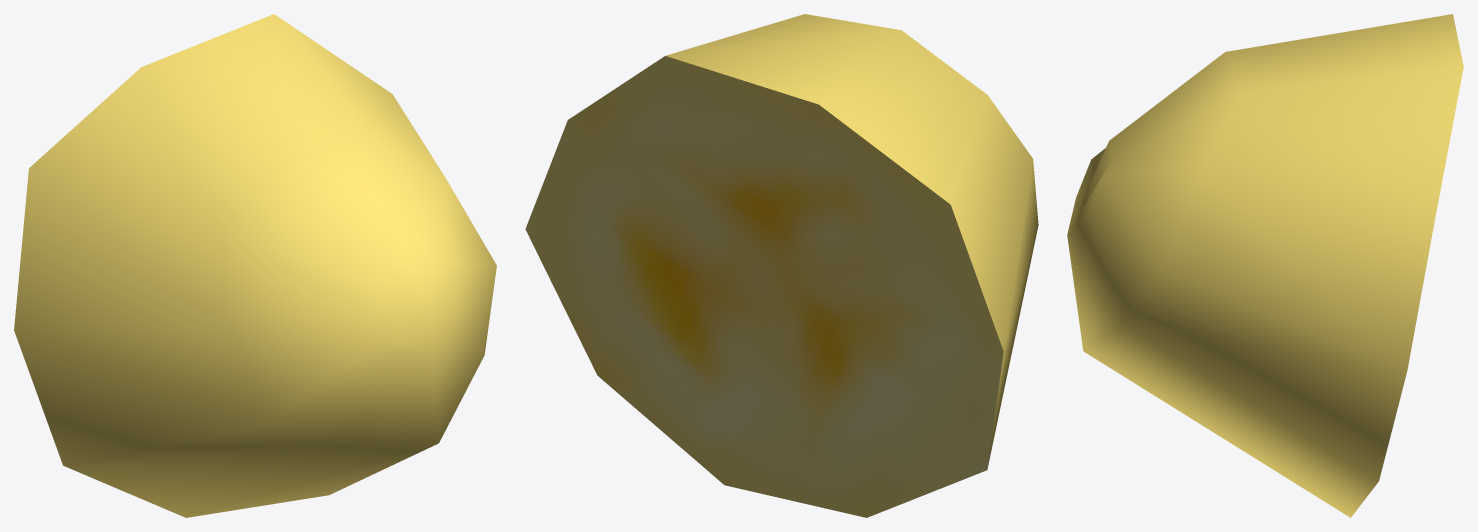
Rendered from Banana_Peeled_Slice_1.fbx.
3 renders of one model, left to right at view 1: azimuth 30°, elevation 25°; view 2: azimuth 150°, elevation 25°; view 3: azimuth 270°, elevation 25°, orthographic. The views are drawn at different scales.
Parts seen in each view (by area): view 1: SM_Prop_Banana_01.007; view 2: SM_Prop_Banana_01.007; view 3: SM_Prop_Banana_01.007.
Part boxes in pixels (<box>): SM_Prop_Banana_01.007: <box>14,14,496,517</box>; SM_Prop_Banana_01.007: <box>525,14,1038,517</box>; SM_Prop_Banana_01.007: <box>1067,14,1463,517</box>.
Bounding box in the file's own units: 25.62 × 24.21 × 19.29.
